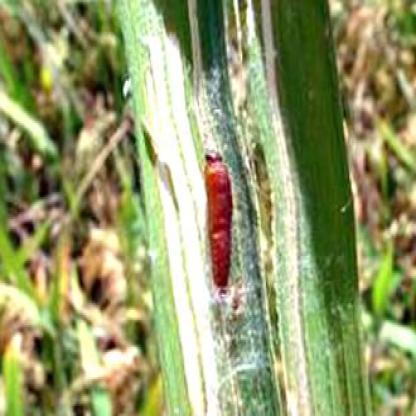leaf-folder: (187, 140, 236, 289)
